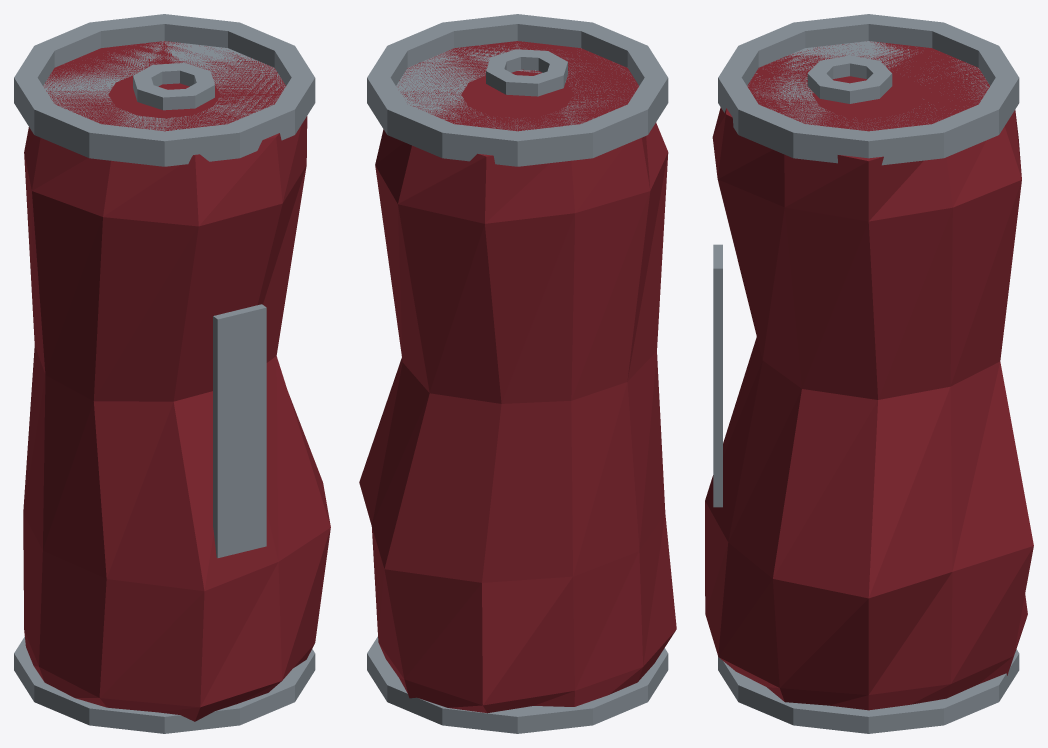
File: MetalCan_Final.fbx
3 views of the same model, side by side, from view 1: azimuth 30°, elevation 25°; view 2: azimuth 150°, elevation 25°; view 3: azimuth 270°, elevation 25° (orthographic).
Parts seen in each view (by area): view 1: MetalCan_Final; view 2: MetalCan_Final; view 3: MetalCan_Final.
Part boxes in pixels (x1,y1,x2,y2): MetalCan_Final: [14, 14, 330, 733]; MetalCan_Final: [359, 14, 676, 733]; MetalCan_Final: [705, 14, 1033, 733].
Size of the model in its own units: 0.0715 by 0.14 by 0.0699.
